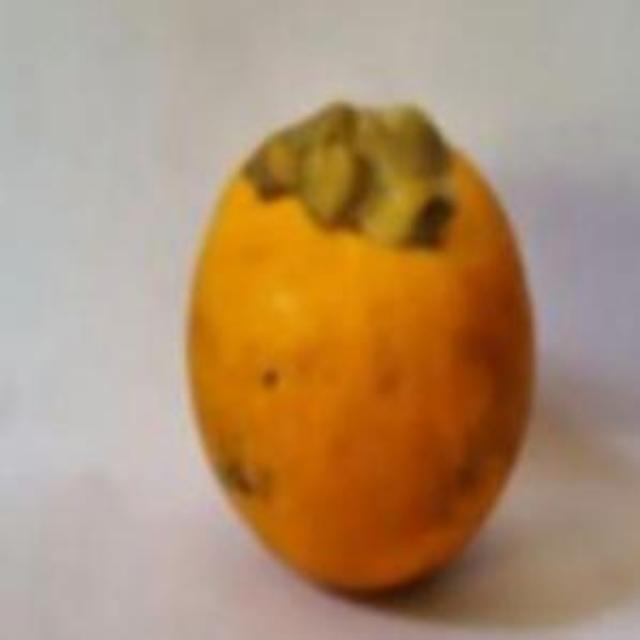good: (184, 103, 539, 604)
